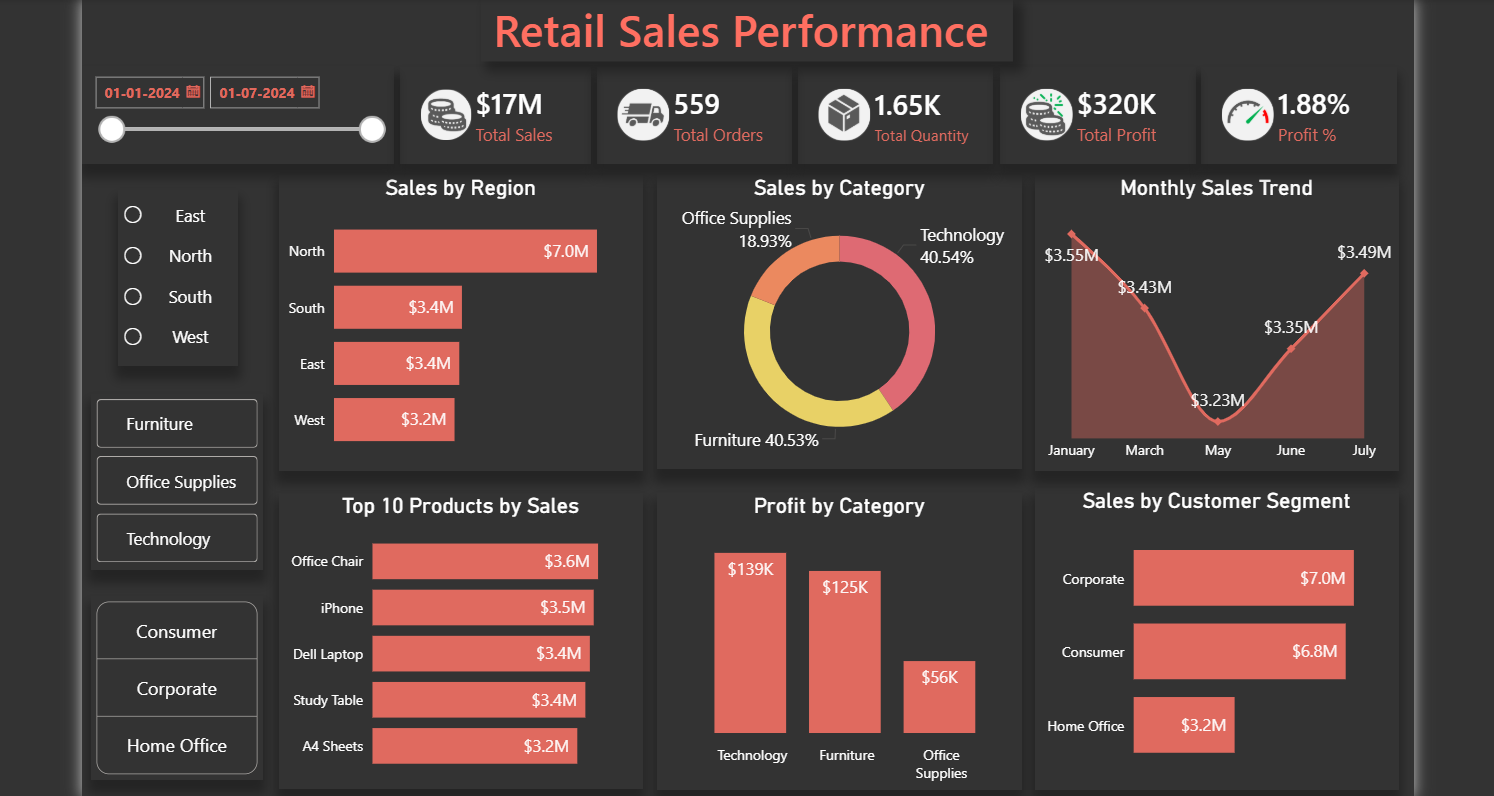

Layout of this report page (visuals, bound fields, positions):
{"tool":"powerbi","page":{"name":"Page 1","canvas":[1280,768],"ordinal":0},"visuals":[{"type":"cardVisual","fields":{"Data":["Sum(Sheet1.Sales)"]},"box":[305.7,65.4,183.2,93.9],"z":0},{"type":"cardVisual","fields":{"Data":["Sum(Sheet1.Profit)"]},"box":[881.8,65.4,187.8,93.9],"z":1000},{"type":"cardVisual","fields":{"Data":["Count(Sheet1.Order_ID)"]},"box":[494.7,65.4,187.8,93.9],"z":2000},{"type":"cardVisual","fields":{"Data":["Sum(Sheet1.Quantity)"]},"box":[688.2,65.4,187.8,93.9],"z":3000},{"type":"clusteredBarChart","title":"Sales by Region","fields":{"Category":["Sheet1.Region"],"Y":["Sum(Sheet1.Sales)"]},"box":[189.3,168,349.8,284.7],"z":4000},{"type":"donutChart","title":"Sales by Category","fields":{"Category":["Sheet1.Category"],"Y":["Sum(Sheet1.Sales)"]},"box":[551.9,168.1,351.3,283.2],"z":5000},{"type":"areaChart","title":"Monthly Sales Trend","fields":{"Y":["Sum(Sheet1.Sales)"],"Category":["Sheet1.Month"]},"box":[916.1,168.1,349.8,284.7],"z":6000},{"type":"barChart","title":"Top 10 Products by Sales","fields":{"Y":["Sum(Sheet1.Sales)"],"Category":["Sheet1.Product_Name"]},"box":[189,475,349.8,284.7],"z":7000},{"type":"columnChart","title":"Profit by Category","fields":{"Category":["Sheet1.Category"],"Y":["Sum(Sheet1.Profit)"]},"box":[551.8,473.9,351.3,286.2],"z":8000},{"type":"barChart","title":"Sales by Customer Segment","fields":{"Category":["Sheet1.Customer_Segment"],"Y":["Sum(Sheet1.Sales)"]},"box":[916.1,469.4,349.8,290.7],"z":9000},{"type":"listSlicer","fields":{"Values":["Sheet1.Region"]},"box":[34.8,183.2,115.1,169.6],"z":10000},{"type":"advancedSlicerVisual","fields":{"Values":["Sheet1.Category"]},"box":[9.1,378.6,165,169.6],"z":11000},{"type":"advancedSlicerVisual","fields":{"Values":["Sheet1.Customer_Segment"]},"box":[9.1,573.9,165,177.2],"z":12000},{"type":"slicer","fields":{"Values":["Sheet1.Order_Date"]},"box":[0,64.9,299.9,93.7],"z":13000},{"type":"cardVisual","fields":{"Data":["Sheet1.Profit %"]},"box":[1075.3,65.4,187.8,93.9],"z":14000},{"type":"textbox","box":[384.2,0,511.6,59.9],"z":15000}]}

Visuals, with their boxes on the page's 1280x768 design canvas (x1, y1, x2, y2). These are canvas units, not pixel positions in the 1494x796 screenshot, which may show the page scaled, cropped or inside an application window:
cardVisual - Sum(Sheet1.Sales): <region>306, 65, 489, 159</region>
cardVisual - Sum(Sheet1.Profit): <region>882, 65, 1070, 159</region>
cardVisual - Count(Sheet1.Order_ID): <region>495, 65, 682, 159</region>
cardVisual - Sum(Sheet1.Quantity): <region>688, 65, 876, 159</region>
"Sales by Region" clusteredBarChart: <region>189, 168, 539, 453</region>
"Sales by Category" donutChart: <region>552, 168, 903, 451</region>
"Monthly Sales Trend" areaChart: <region>916, 168, 1266, 453</region>
"Top 10 Products by Sales" barChart: <region>189, 475, 539, 760</region>
"Profit by Category" columnChart: <region>552, 474, 903, 760</region>
"Sales by Customer Segment" barChart: <region>916, 469, 1266, 760</region>
listSlicer - Sheet1.Region: <region>35, 183, 150, 353</region>
advancedSlicerVisual - Sheet1.Category: <region>9, 379, 174, 548</region>
advancedSlicerVisual - Sheet1.Customer_Segment: <region>9, 574, 174, 751</region>
slicer - Sheet1.Order_Date: <region>0, 65, 300, 159</region>
cardVisual - Sheet1.Profit %: <region>1075, 65, 1263, 159</region>
textbox: <region>384, 0, 896, 60</region>
